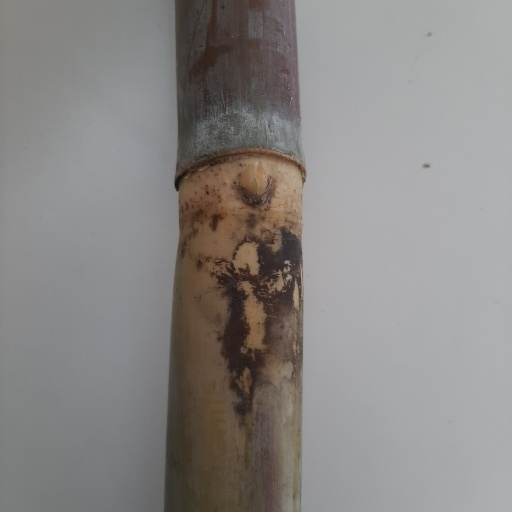Bud: (236, 156, 274, 202)
